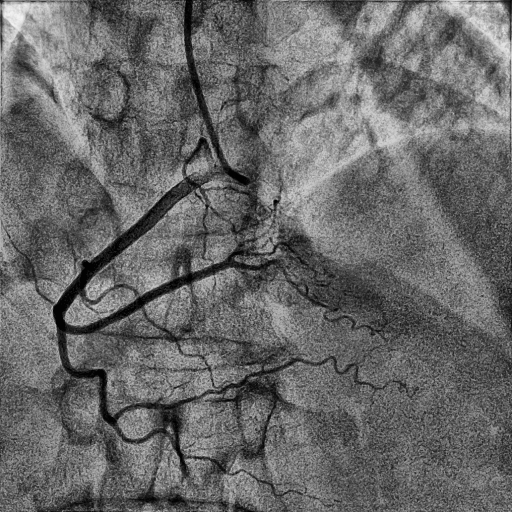pda: (234, 260, 374, 336)
rca: (53, 165, 231, 334)
